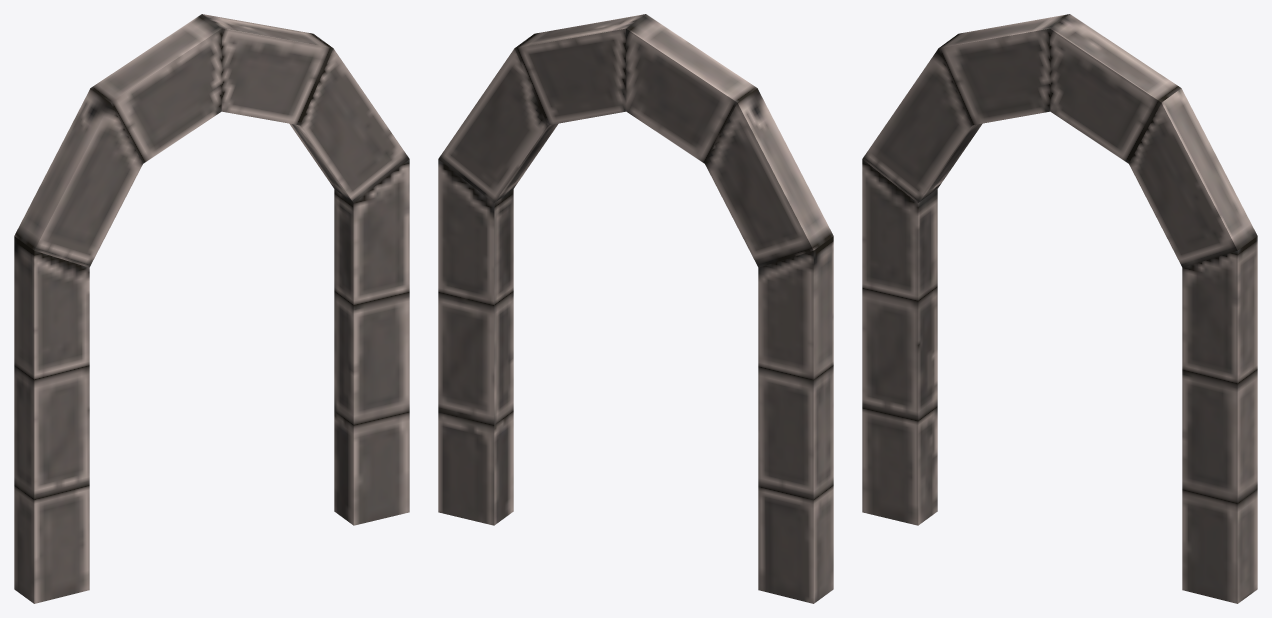
The model's file is Gate.fbx.
3 views of the same model, side by side, from view 1: azimuth 30°, elevation 25°; view 2: azimuth 150°, elevation 25°; view 3: azimuth 330°, elevation 25° (orthographic).
Visible parts, largest first — view 1: gate; view 2: gate; view 3: gate.
Part boxes in pixels (<box>): gate: <box>14,14,409,603</box>; gate: <box>438,14,833,603</box>; gate: <box>862,14,1257,603</box>.
Size of the model in its own units: 947 by 1277 by 87.23.
Materials: 1 (1 with a texture image).
